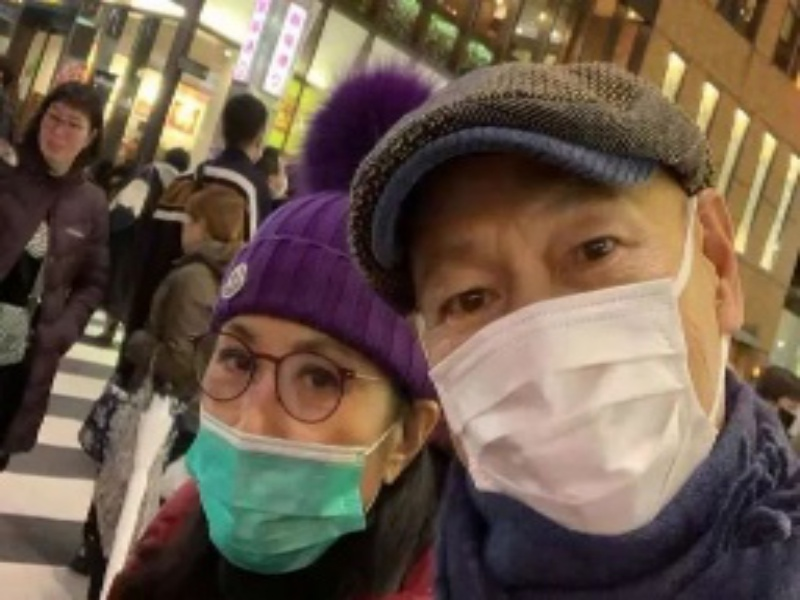ManaoArotava: (365, 98, 778, 545), (160, 206, 420, 590)
